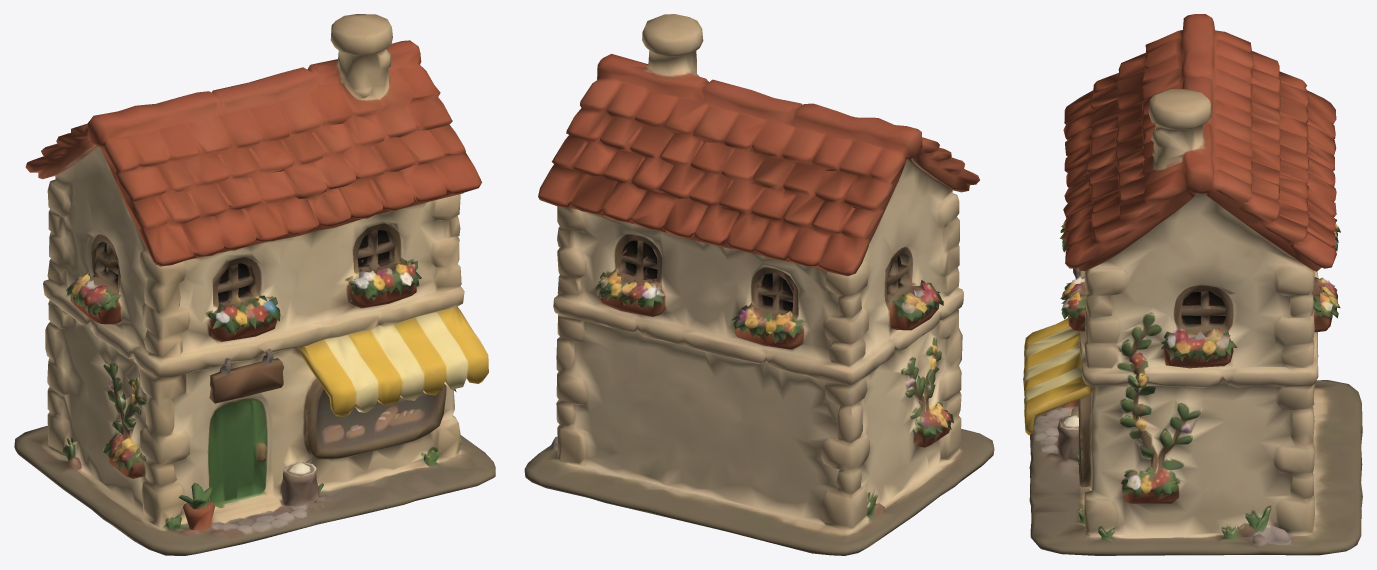
Rendered from bakery.glb.
The picture shows the model from 3 angles, left to right: view 1: azimuth 30°, elevation 25°; view 2: azimuth 150°, elevation 25°; view 3: azimuth 270°, elevation 25°; orthographic projection. The views are drawn at different scales.
Size of the model in its own units: 1.7 by 1.9 by 1.4.
Materials: 1 (1 with a texture image).
